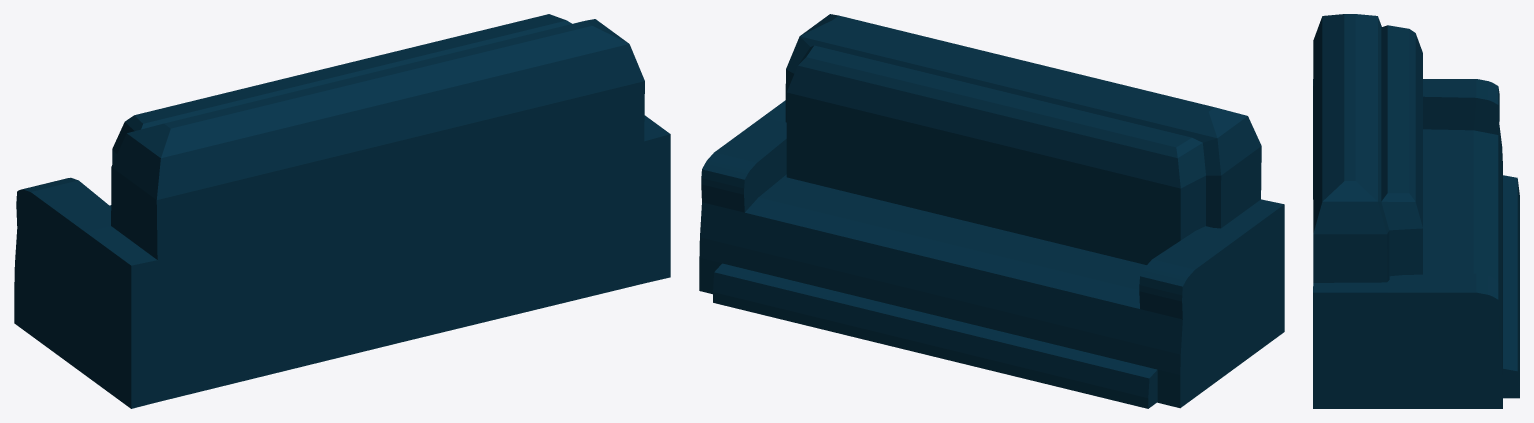
The model's file is SOFA-GRANDE.glb.
The picture shows the model from 3 angles, left to right: view 1: azimuth 30°, elevation 25°; view 2: azimuth 150°, elevation 25°; view 3: azimuth 270°, elevation 25°; orthographic projection. The views are drawn at different scales.
Visible parts, largest first — view 1: SOFA-GRANDE; view 2: SOFA-GRANDE; view 3: SOFA-GRANDE.
Boxes of the visible parts, x1,y1,x2,y2 form: SOFA-GRANDE: (14,14,670,408); SOFA-GRANDE: (699,14,1284,408); SOFA-GRANDE: (1313,14,1519,408).
Bounding box in the file's own units: 5.71 × 2.55 × 2.33.
1 material, 1 textured.
